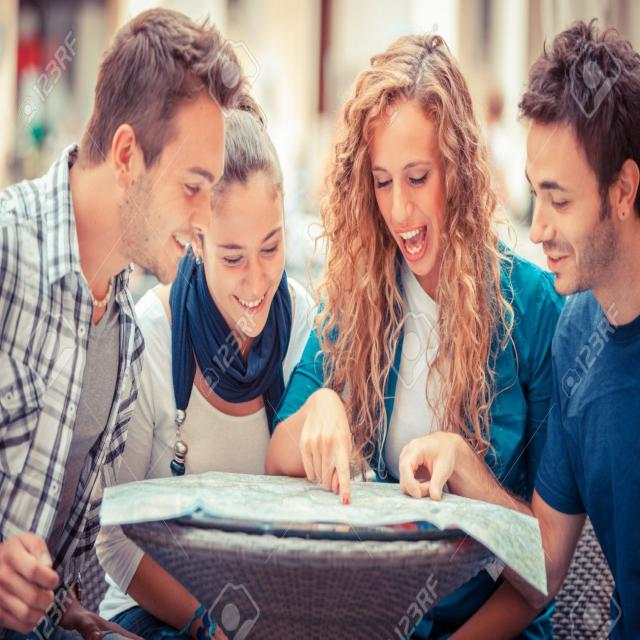body: (264, 31, 570, 636), (0, 2, 255, 639), (402, 12, 640, 639), (93, 83, 318, 640)
